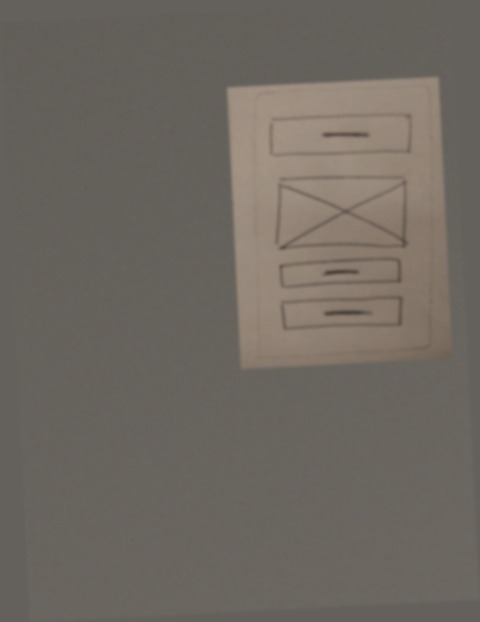button: (265, 106, 414, 164), (277, 292, 406, 334), (277, 254, 406, 293)
image: (269, 168, 411, 258)
